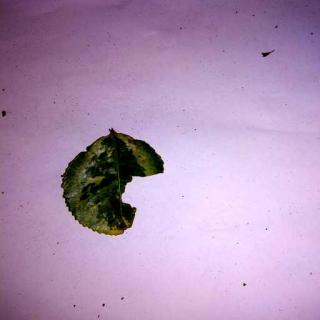Anthracnose: (63, 132, 165, 240)
